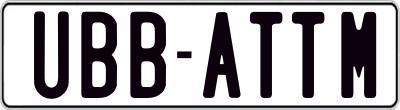A: (202, 12, 245, 104)
B: (128, 9, 168, 101), (81, 10, 118, 101)
M: (339, 10, 378, 97)
T: (249, 10, 287, 96), (292, 11, 327, 97)
U: (33, 11, 73, 104)
